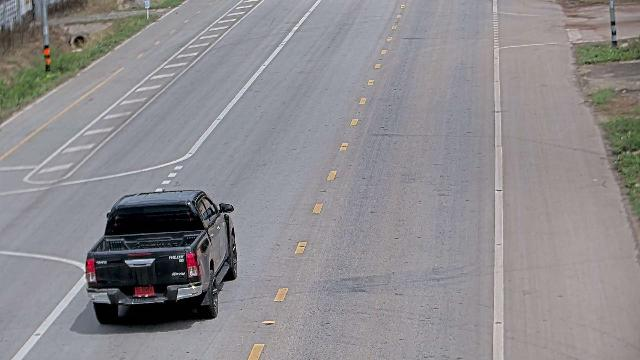pickup-truck: (84, 187, 238, 324)
